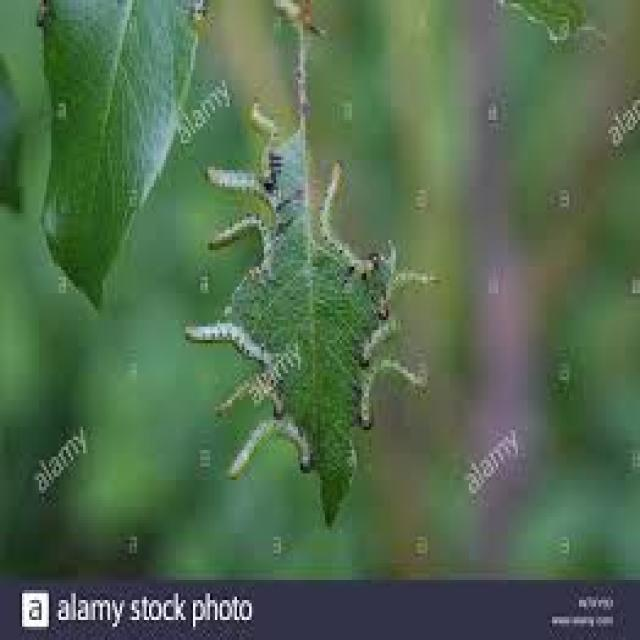Saw Fly: (319, 156, 374, 278), (223, 415, 312, 488), (357, 356, 434, 439), (200, 216, 281, 277), (182, 322, 282, 371), (205, 164, 287, 216), (250, 92, 284, 192)
